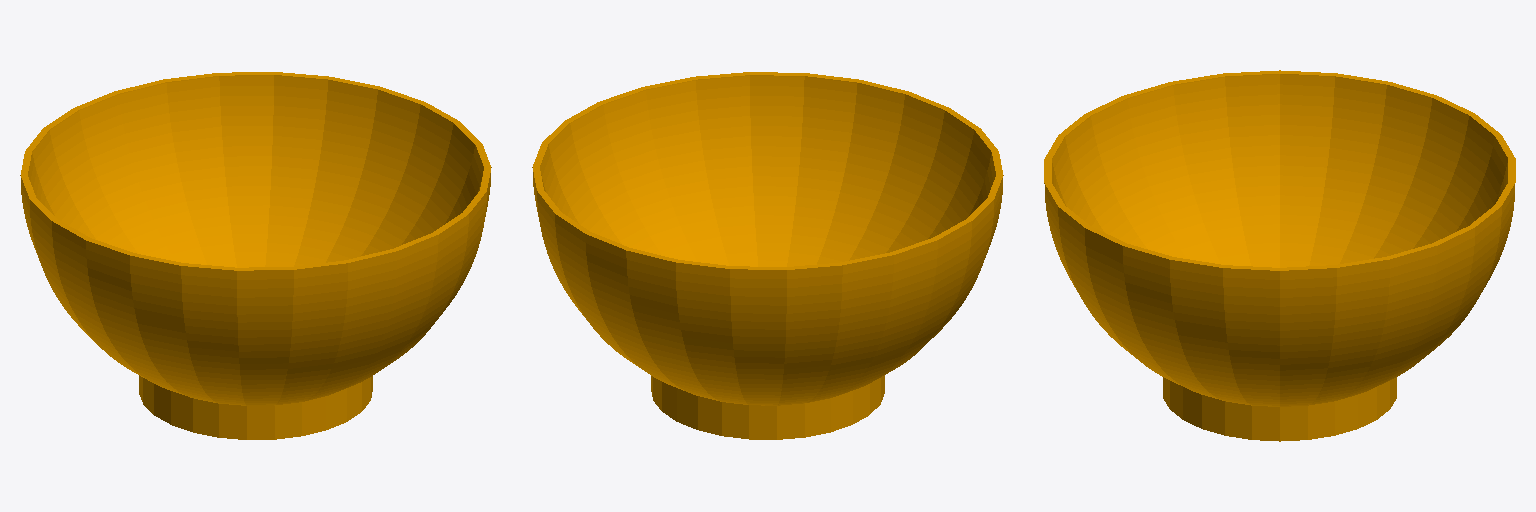
URDF robot description (object):
<?xml version="1.0"?>
<robot name="object">
  <link name="object">
    <visual>
      <origin xyz="0.0 0.0 0.0"/>
      <geometry>
        <mesh filename="bowl.stl" scale="1.00 1.00 1.00"/>
      </geometry>
    </visual>
    <collision>
      <origin xyz="0.0 0.0 0.0"/>
      <geometry>
        <mesh filename="bowl.stl" scale="1.00 1.00 1.00"/>
      </geometry>
    </collision>
  </link>
</robot>
    
                    

--- Facts derived from the render (not from the file) ---
3 views of the same robot in one strip: view 1: azimuth 30°, elevation 25°; view 2: azimuth 150°, elevation 25°; view 3: azimuth 270°, elevation 25° (orthographic).
Model object with 1 links and 0 joints (none), rooted at object, posed every joint at zero.
Links seen in each view (by area): view 1: object; view 2: object; view 3: object.
Boxes of the visible links, bbox=[...] form: object: bbox=[20, 72, 491, 439]; object: bbox=[532, 72, 1003, 439]; object: bbox=[1044, 70, 1515, 441].
Bounding box of the posed robot: 0.1489 × 0.1479 × 0.0766 m (x, y, z).
Meshes: 1 distinct files referenced, 1 mesh visuals loaded (1 binary STL).
